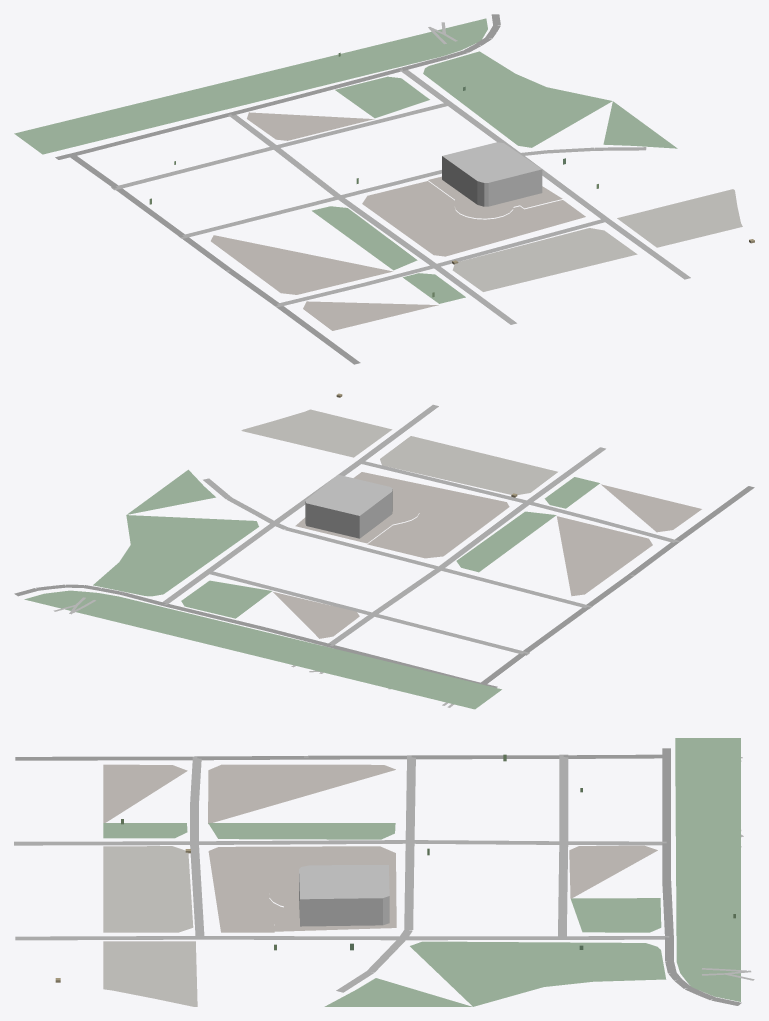
The picture shows the model from 3 angles, top to bottom: view 1: azimuth 30°, elevation 25°; view 2: azimuth 150°, elevation 25°; view 3: azimuth 270°, elevation 25°; orthographic projection. The views are drawn at different scales.
Bounding box in the file's own units: 502 × 27.95 × 581.
